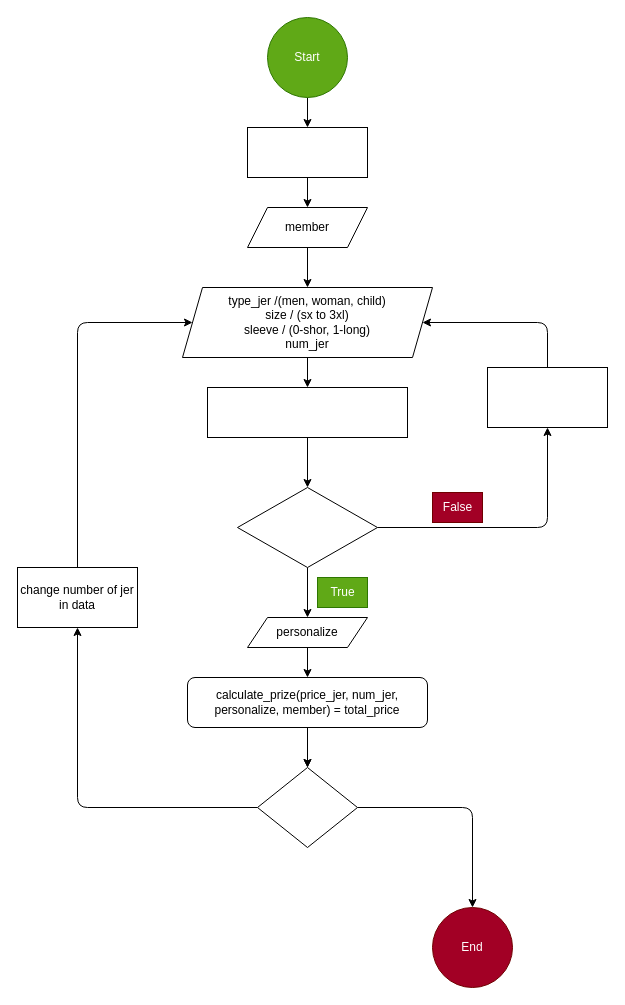
The diagram is 625 pixels wide and 1005 high, and some of its shapes have lost their labels. Each missing label, with the centre of its shape:
"Error message" belongs at point (547, 397).
"if extra_jer" belongs at point (307, 807).
"if num_jer >= stock" belongs at point (307, 527).
"import data (pandas)" belongs at point (307, 152).
"select type jer (with pandas) = stock, price_jer" belongs at point (307, 412).
